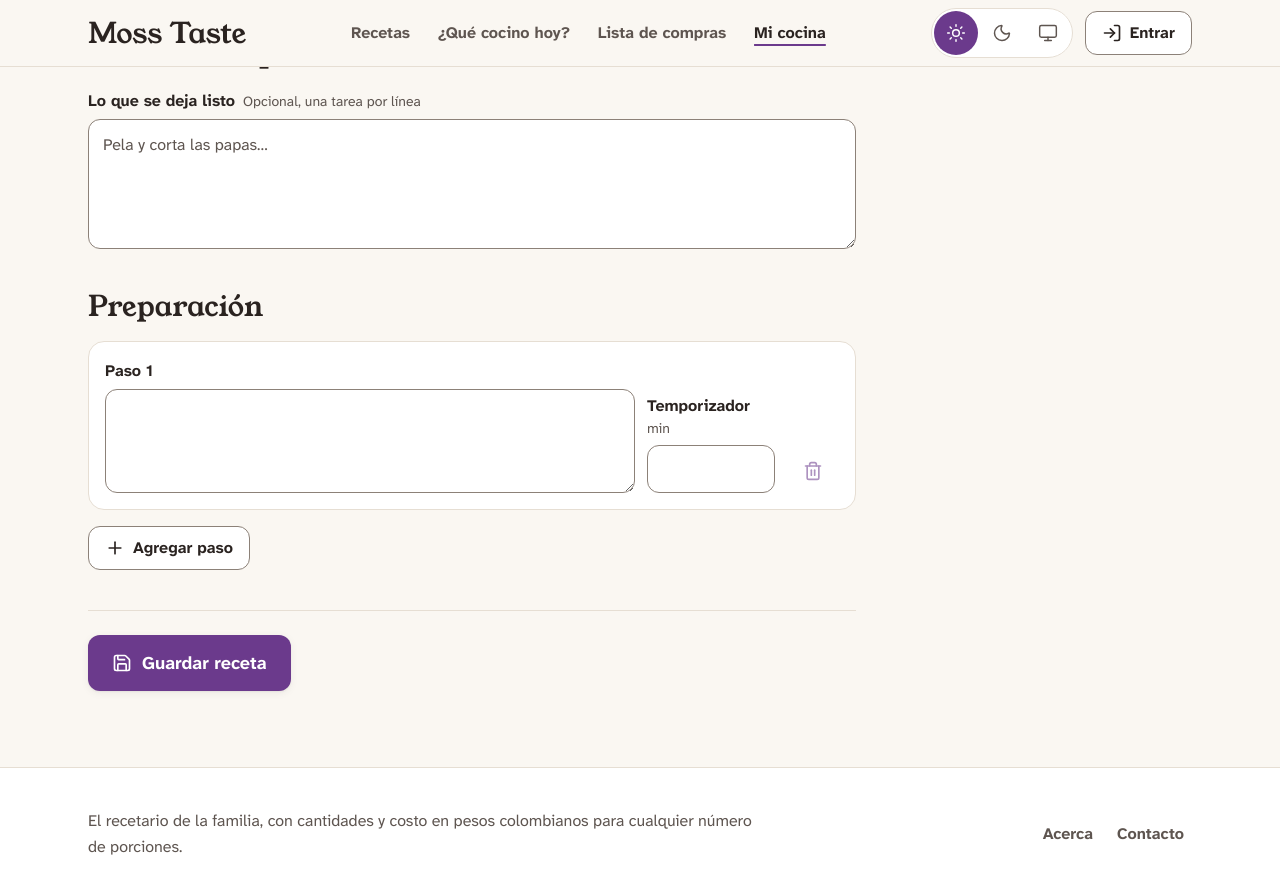
formularios › nueva receta: sin datos marca los campos obligatorios
(page scrolled)
Click the button "Guardar receta": click(189, 663) 88,635 -> 291,691
(page scrolled)
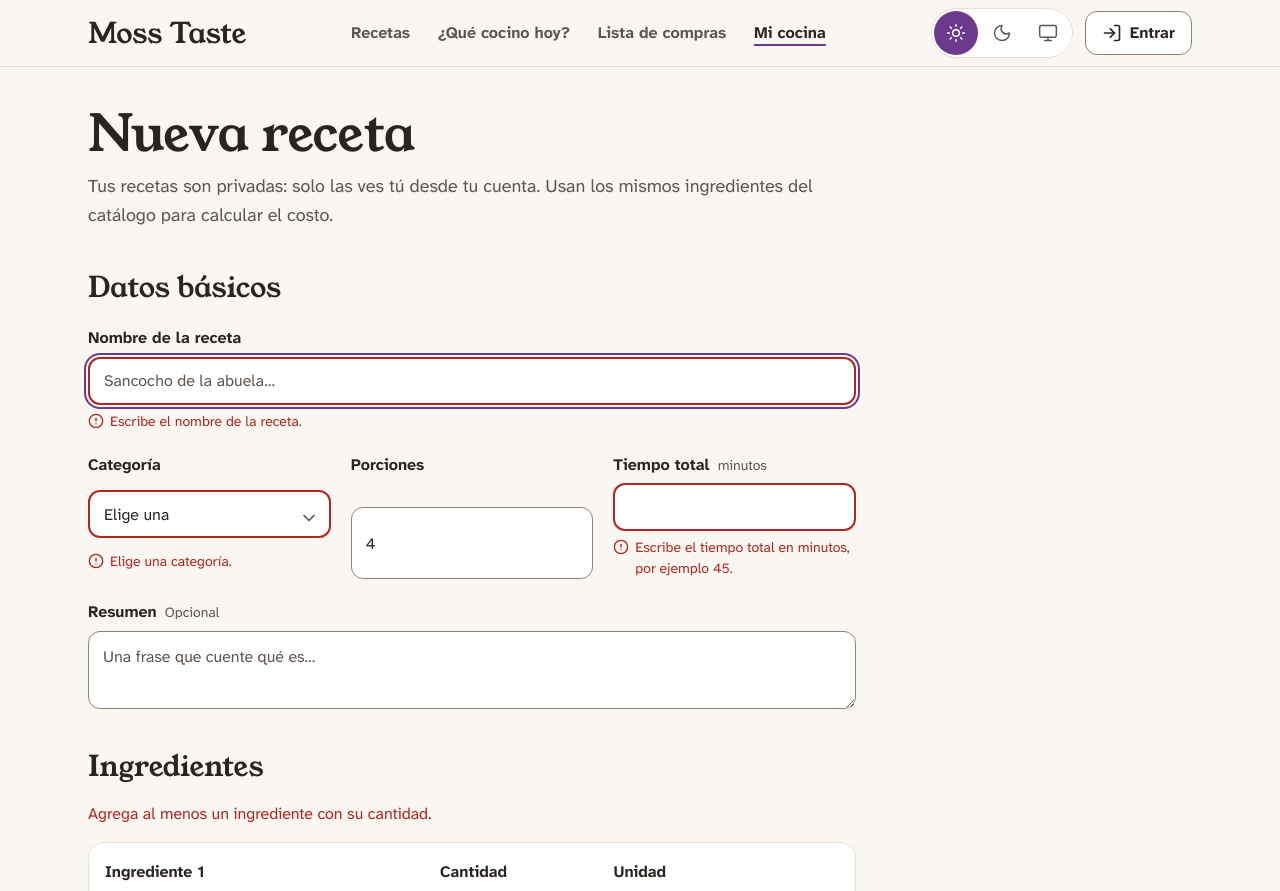
Check: the text "Escribe el nombre de la receta." is shown, box 88,412 -> 302,430
Check: the text "Agrega al menos un ingrediente con su cantidad." is shown, box 88,802 -> 432,824
